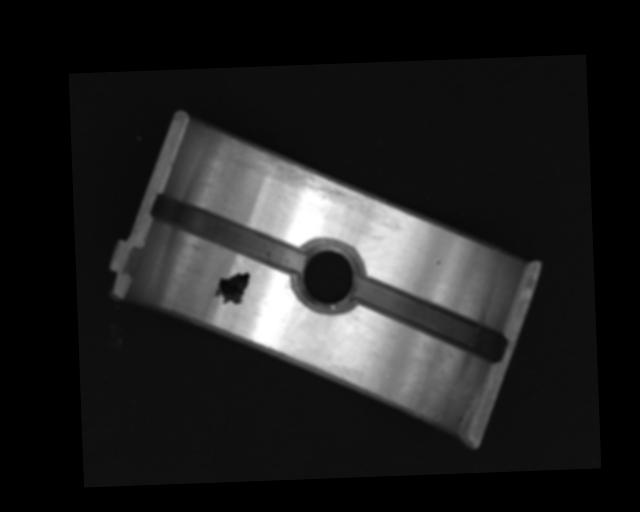blot: (211, 270, 252, 305)
bruise: (433, 258, 442, 265)
gap: (355, 272, 505, 365), (150, 190, 305, 276)
hole: (292, 240, 364, 315)
scratch: (228, 132, 366, 206)
